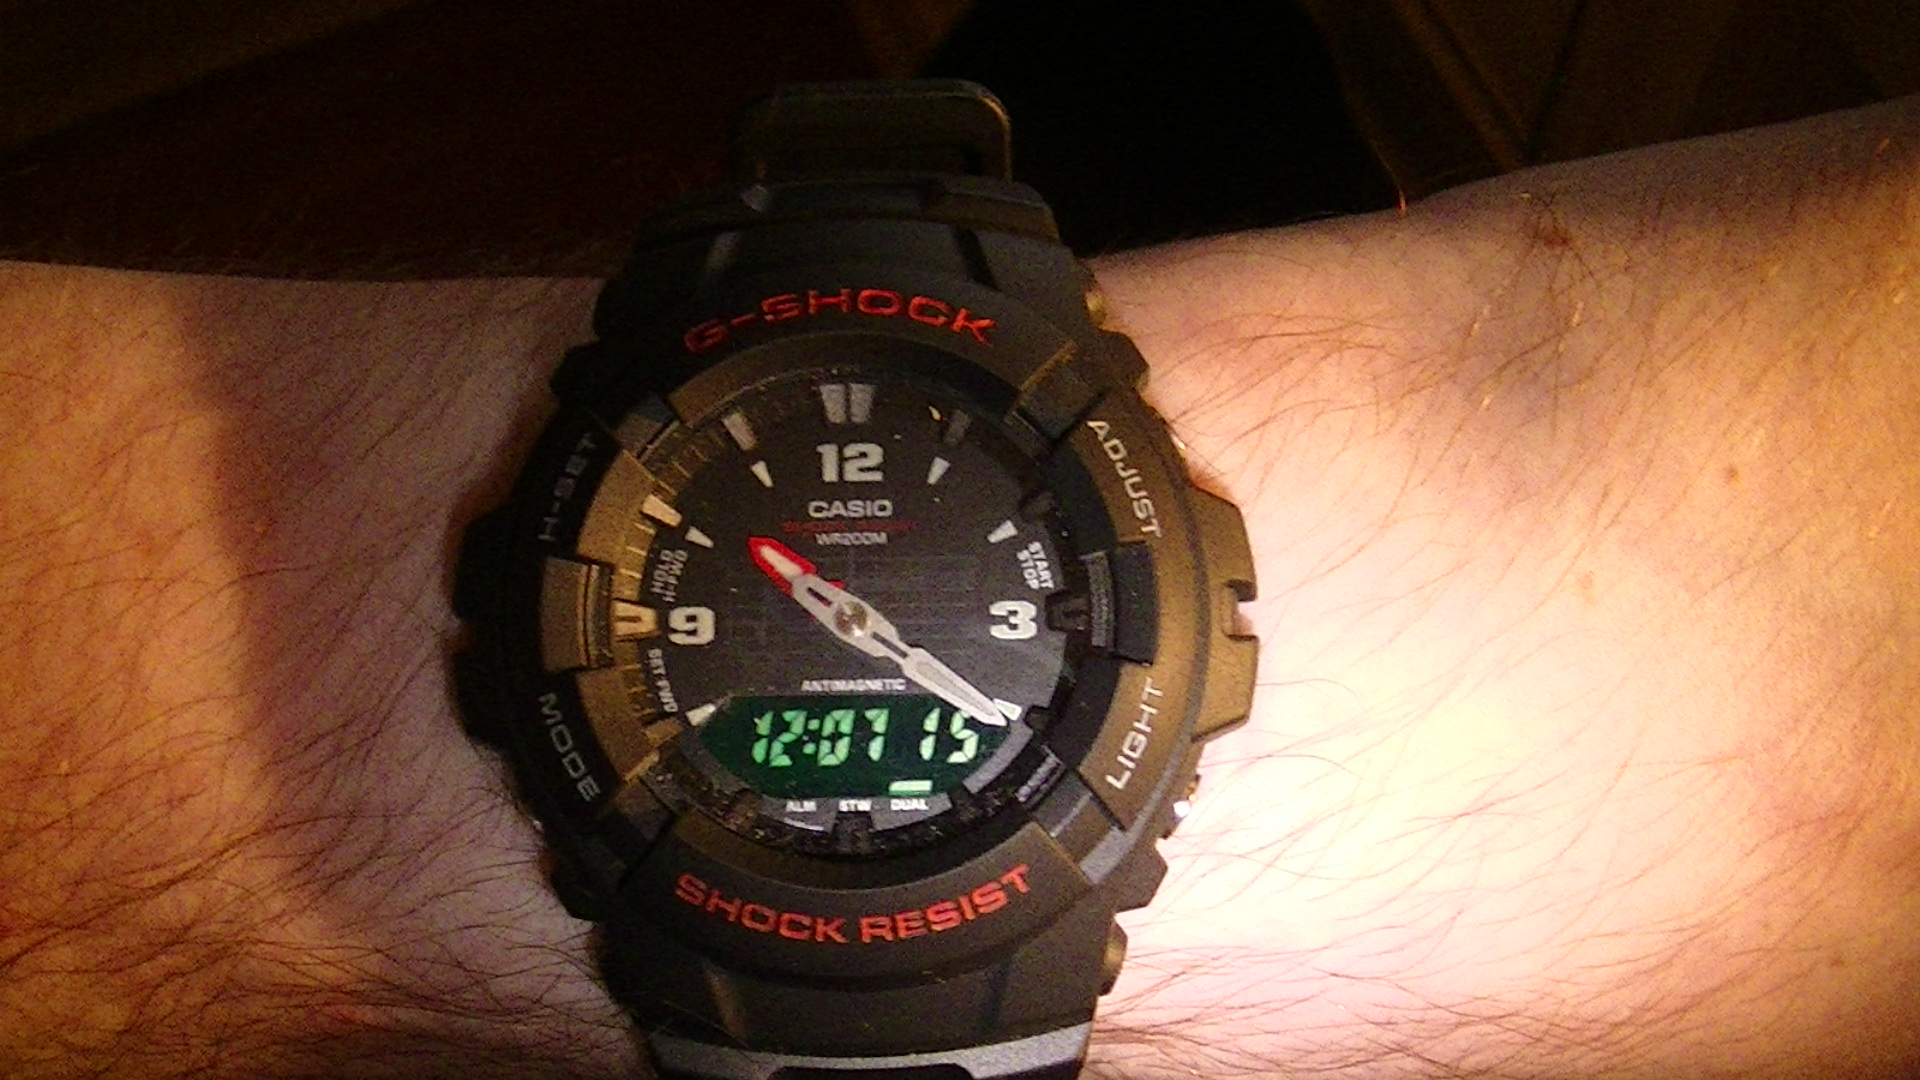clock: (512, 266, 1212, 990)
